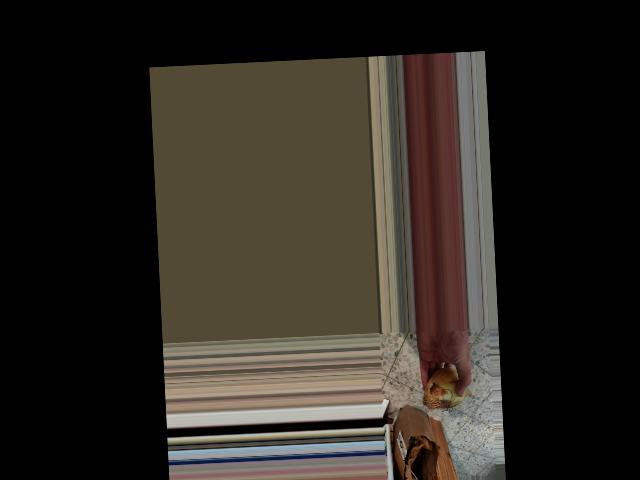onion: (419, 363, 472, 414)
